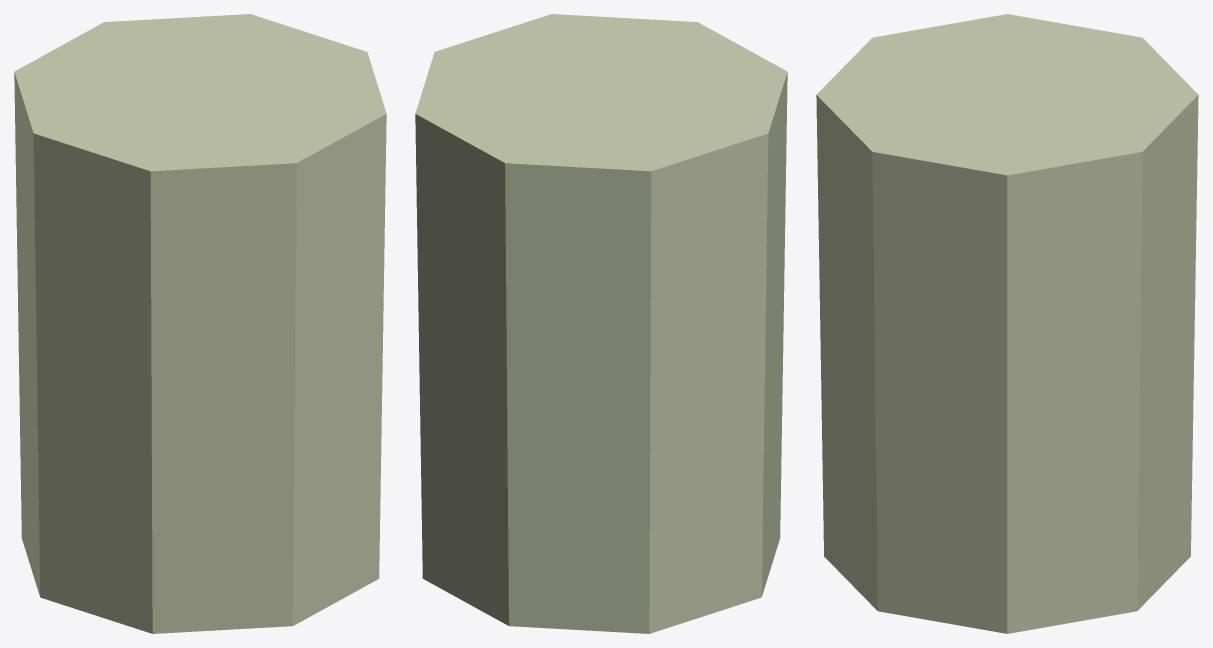
Rendered from alnair_us_engine_s0p5_1_collider.obj.
3 views of the same model, side by side, from view 1: azimuth 30°, elevation 25°; view 2: azimuth 150°, elevation 25°; view 3: azimuth 270°, elevation 25° (orthographic).
Visible parts, largest first — view 1: collider; view 2: collider; view 3: collider.
Boxes of the visible parts, bbox=[...] form: collider: bbox=[14, 14, 386, 633]; collider: bbox=[415, 14, 787, 633]; collider: bbox=[816, 14, 1198, 633].
Size of the model in its own units: 0.9375 by 1.25 by 0.9375.
